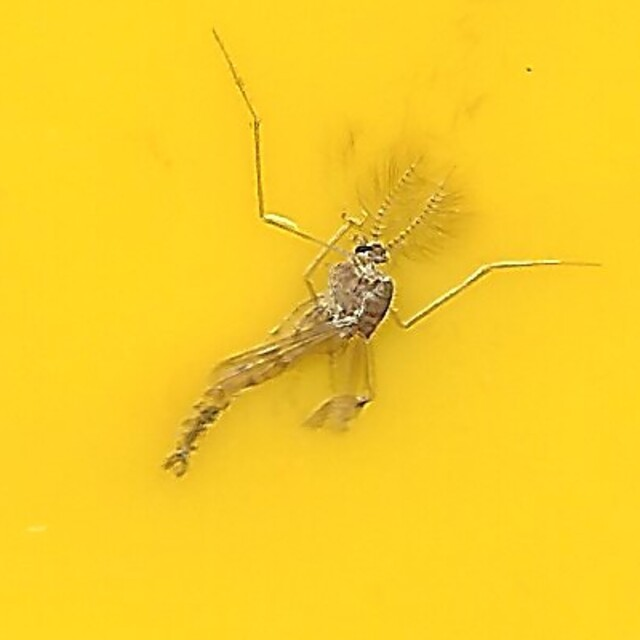Nematocera: (160, 152, 480, 488)
